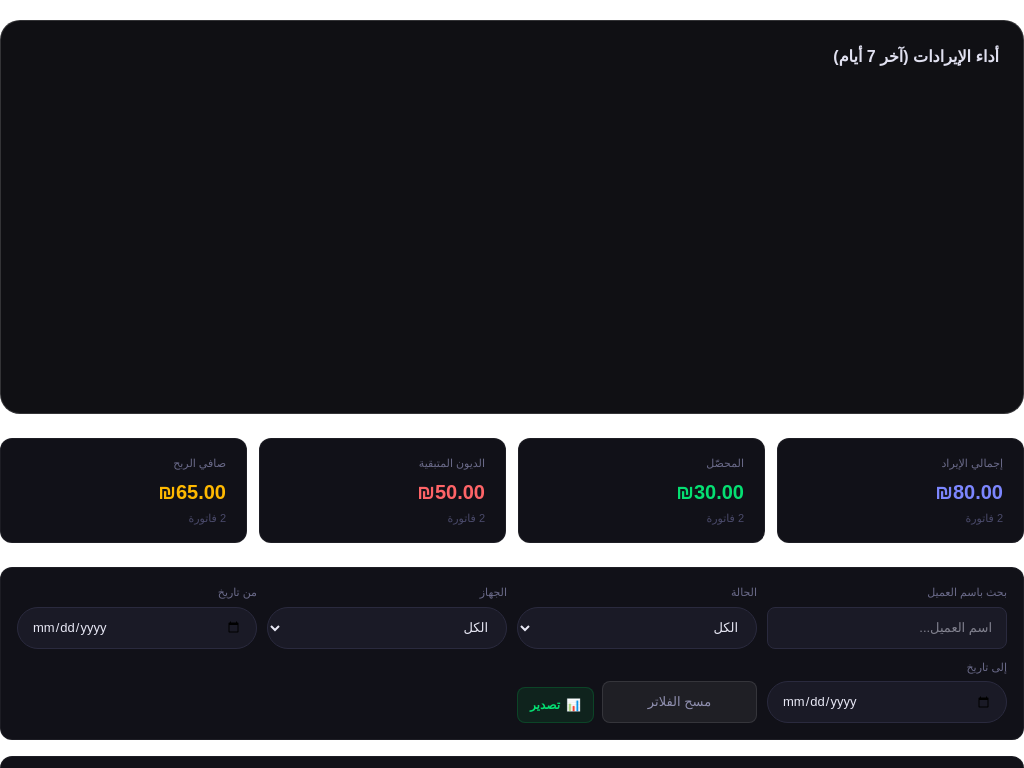
Test case: InvoicesTab Search and Filter Integration › resets all filters and shows all invoices when clear filters is clicked
Note: Apply a filter
Select "دين" in the 2nd dropdown at (637, 628), box x1=517 y1=606 x2=757 y2=648
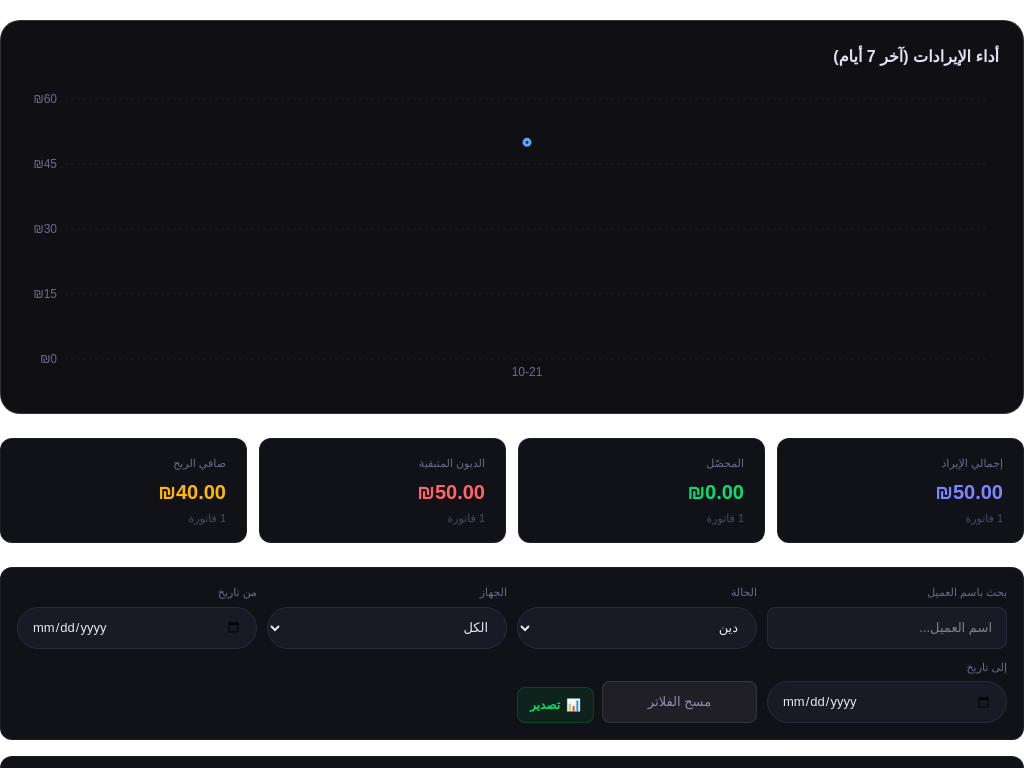
expect the text "أحمد علي" is not shown: met
Note: Click "مسح الفلاتر"
Click the button "مسح الفلاتر".
click(680, 702)  # box x1=602 y1=681 x2=757 y2=723
(page scrolled)
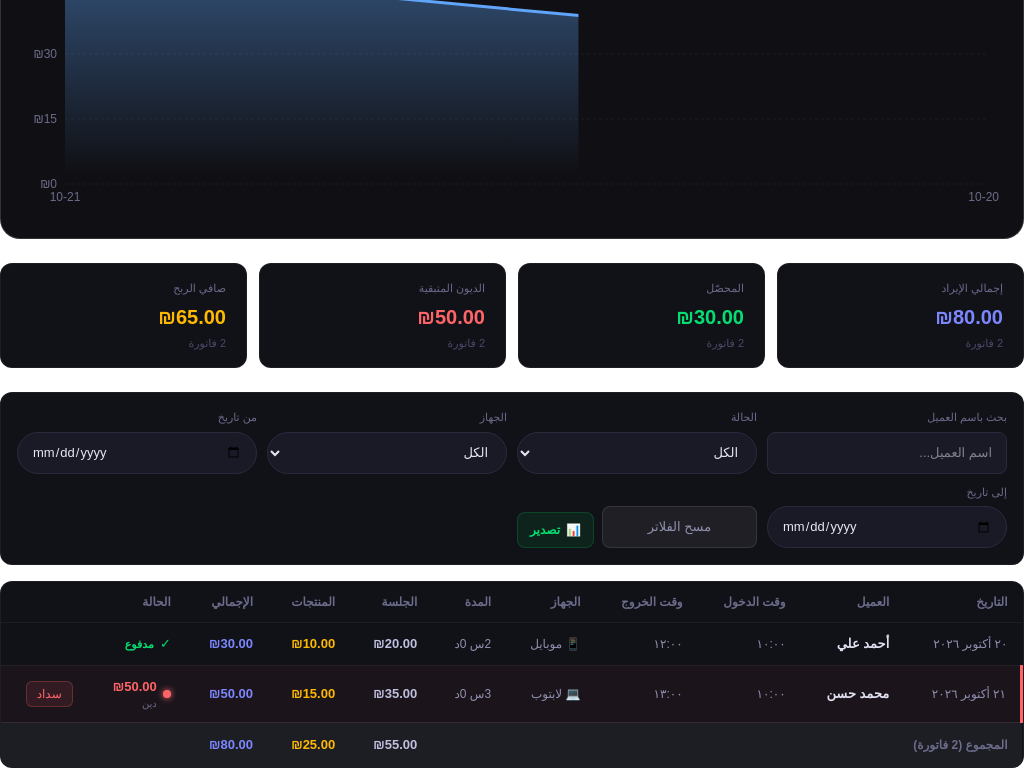
expect the text "محمد حسن" is shown: met, box x1=826 y1=686 x2=889 y2=701
expect the text "أحمد علي" is shown: met, box x1=837 y1=636 x2=889 y2=651
